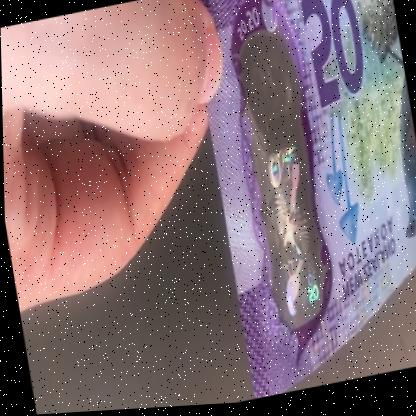50B: (243, 58, 326, 327)
